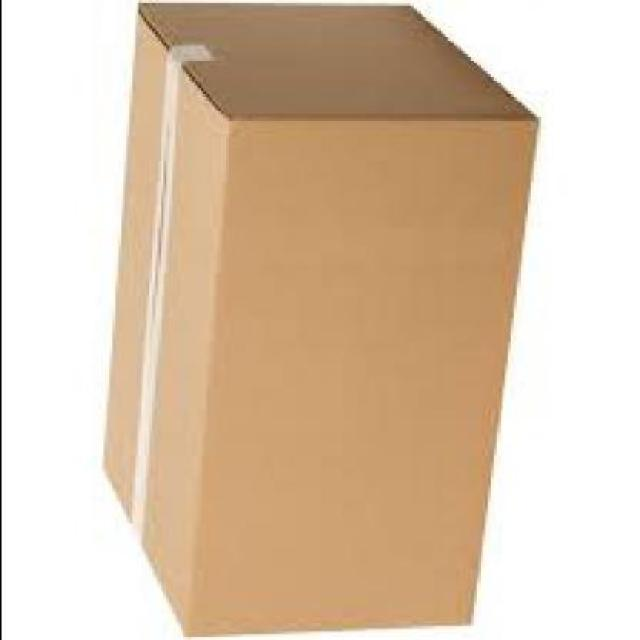CARDBOARD: (99, 0, 535, 637)
